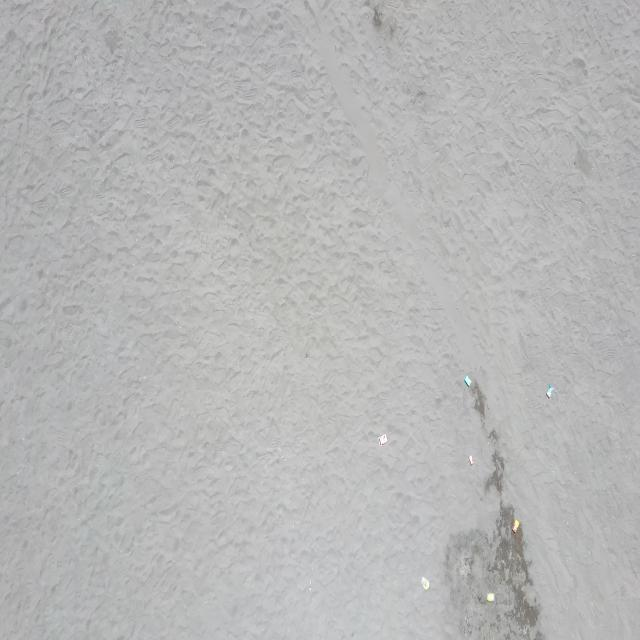Garbage: (420, 575, 428, 590), (377, 433, 387, 444), (511, 520, 519, 532), (546, 384, 553, 397), (464, 375, 471, 386), (486, 592, 493, 602), (467, 455, 473, 464)
